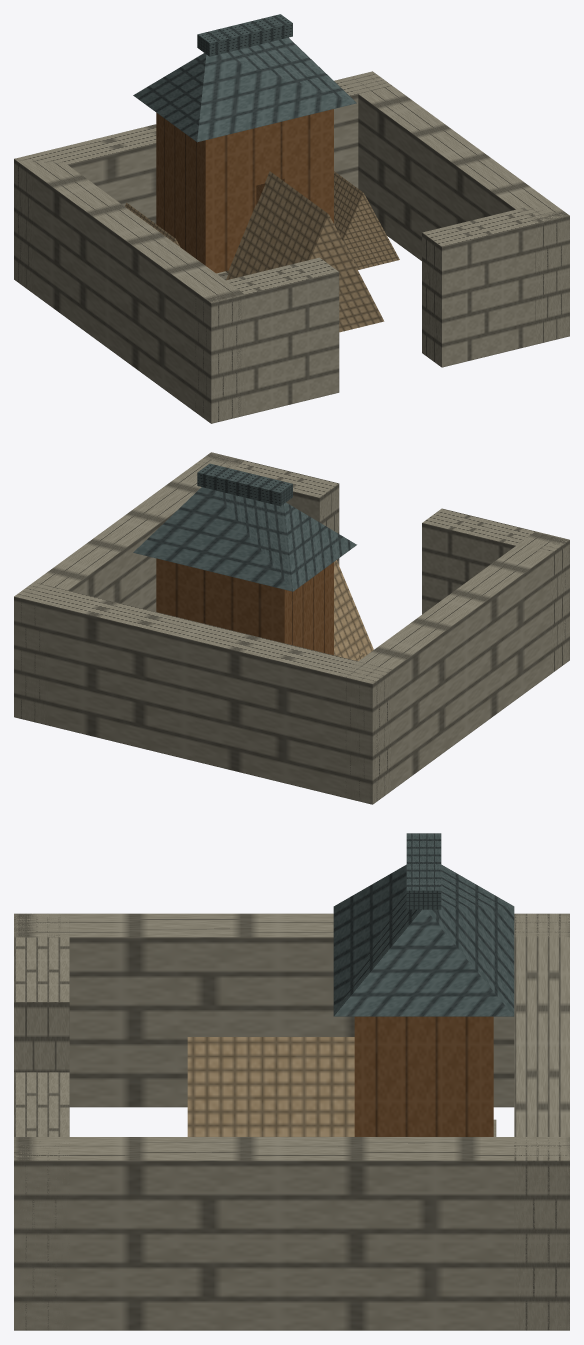
File: military-FORTRESS-1-lod2.glb
3 renders of one model, top to bottom at view 1: azimuth 30°, elevation 25°; view 2: azimuth 150°, elevation 25°; view 3: azimuth 270°, elevation 25°, orthographic. The views are drawn at different scales.
Size of the model in its own units: 0.84 by 0.548 by 0.8.
Materials: 1 (1 with a texture image).
